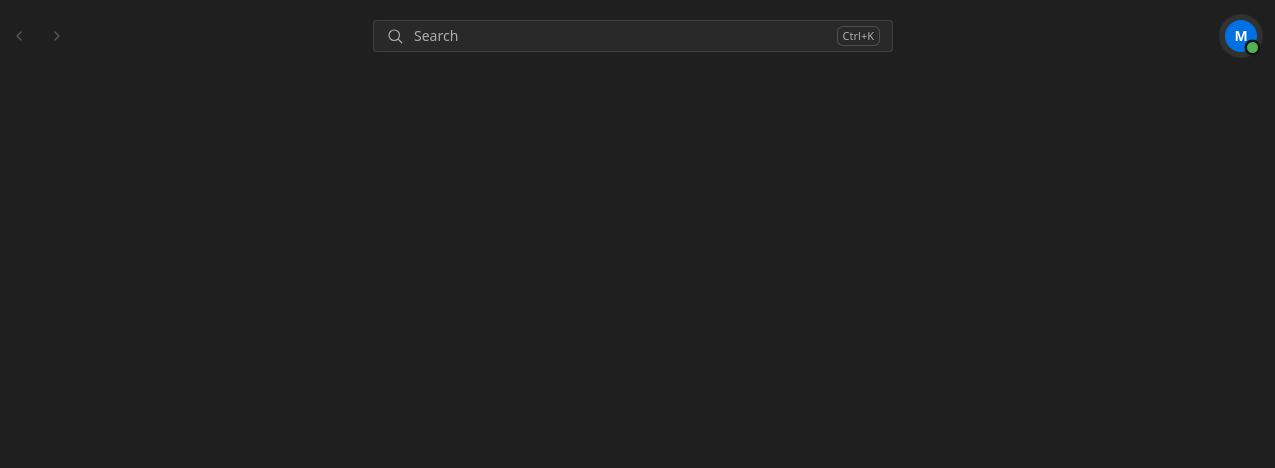
Test: closes on Escape
Type "al" into the field labelled "Search".
click(620, 36); type("al")  # box 414,26 -> 827,46
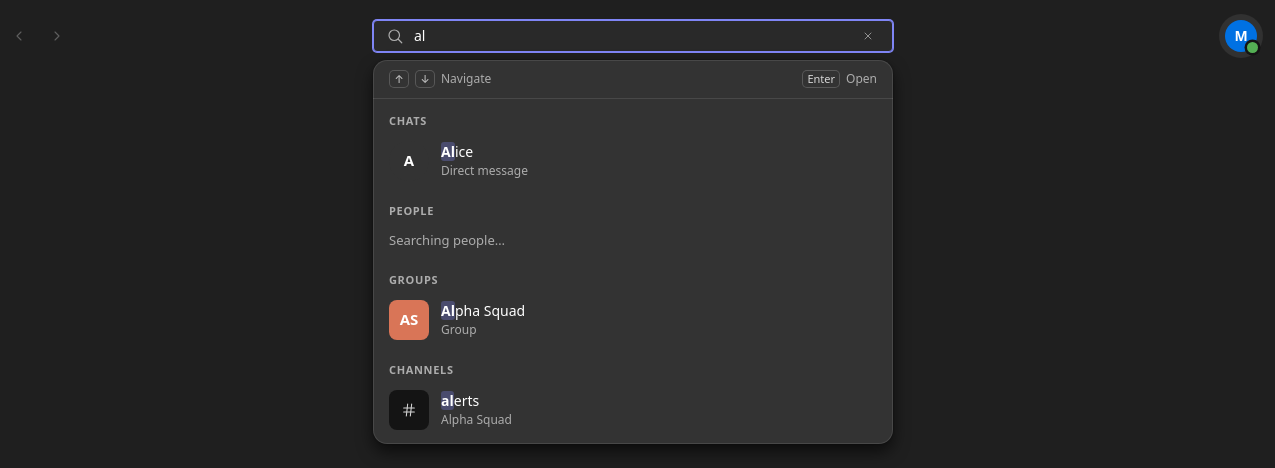
Press Escape in the field named "Search", box 414,26 -> 846,46
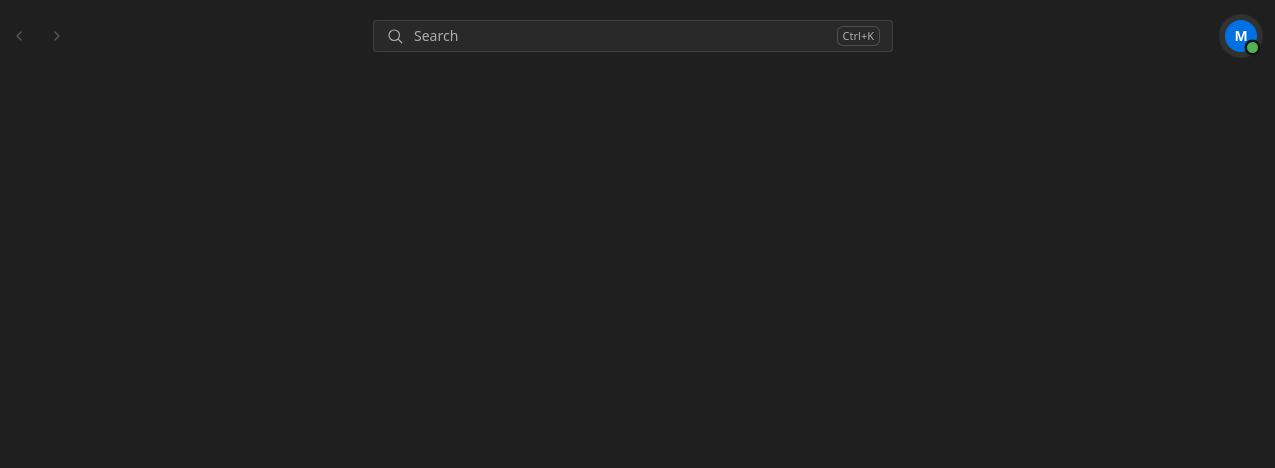
Now the field labelled "Search" is empty, box 414,26 -> 827,46
Now the text labelled "Chats" is gone
